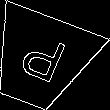P_S: (12, 30, 69, 91)
